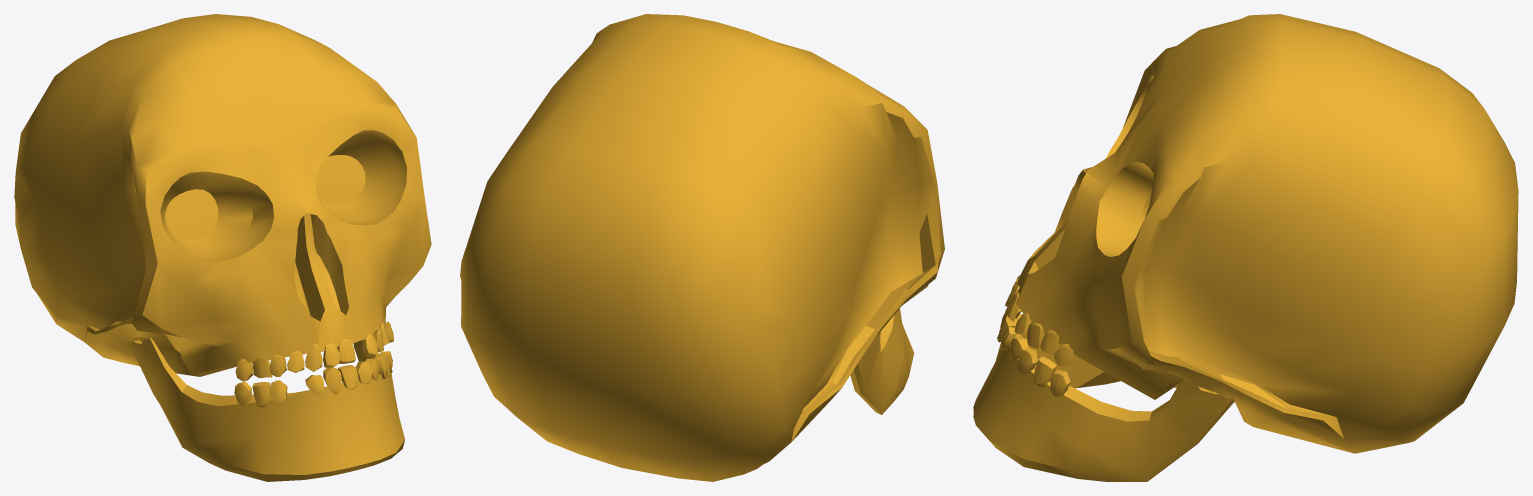
The model's file is skull_low.fbx.
3 renders of one model, left to right at view 1: azimuth 30°, elevation 25°; view 2: azimuth 150°, elevation 25°; view 3: azimuth 270°, elevation 25°, orthographic. The views are drawn at different scales.
Parts seen in each view (by area): view 1: skull_low; view 2: skull_low; view 3: skull_low.
Boxes of the visible parts, x1=… form: skull_low: x1=14, y1=14, x2=431, y2=481; skull_low: x1=460, y1=14, x2=944, y2=481; skull_low: x1=973, y1=14, x2=1518, y2=481.
Bounding box in the file's own units: 9.38 × 10.88 × 13.43.
